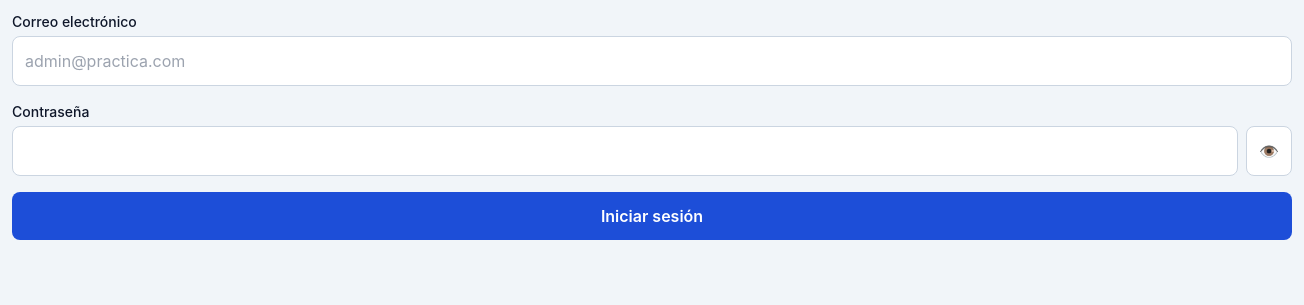
Test case: LoginForm › no envía campos vacíos
What coordinates should you click on to do the following:
click the button "Iniciar sesión"
I would click on:
 (652, 216)
Its box is [12,192,1292,240].
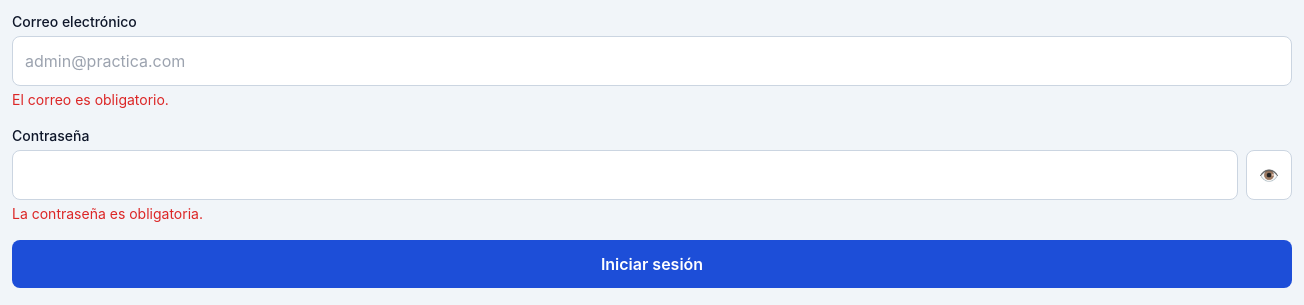
Now the text "El correo es obligatorio." is shown, box [12,91,169,108]
Now the text "La contraseña es obligatoria." is shown, box [12,205,203,222]
